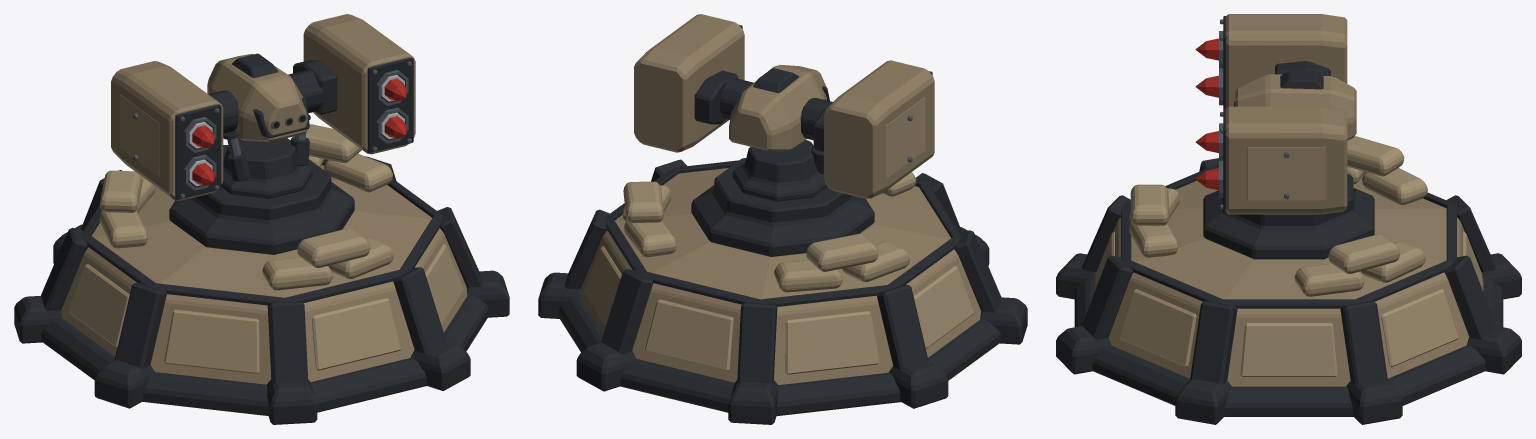
File: lm2-lanza-n3.glb
The picture shows the model from 3 angles, left to right: view 1: azimuth 30°, elevation 25°; view 2: azimuth 150°, elevation 25°; view 3: azimuth 270°, elevation 25°; orthographic projection.
Parts seen in each view (by area): view 1: casco, gun_pitch, turret_yaw, rocket_01, rocket_02, rocket_03, rocket_04; view 2: casco, gun_pitch, turret_yaw; view 3: casco, gun_pitch.
Part boxes in pixels (bbox=[...]): casco: bbox=[14, 124, 509, 424]; gun_pitch: bbox=[111, 14, 415, 201]; turret_yaw: bbox=[221, 114, 312, 198]; rocket_01: bbox=[188, 159, 214, 186]; rocket_02: bbox=[188, 122, 214, 148]; rocket_03: bbox=[381, 112, 406, 139]; rocket_04: bbox=[381, 75, 406, 101]; casco: bbox=[538, 144, 1027, 424]; gun_pitch: bbox=[634, 14, 934, 198]; turret_yaw: bbox=[732, 140, 827, 201]; casco: bbox=[1056, 136, 1521, 424]; gun_pitch: bbox=[1219, 14, 1356, 214].
Size of the model in its own units: 1 by 0.613 by 1.
